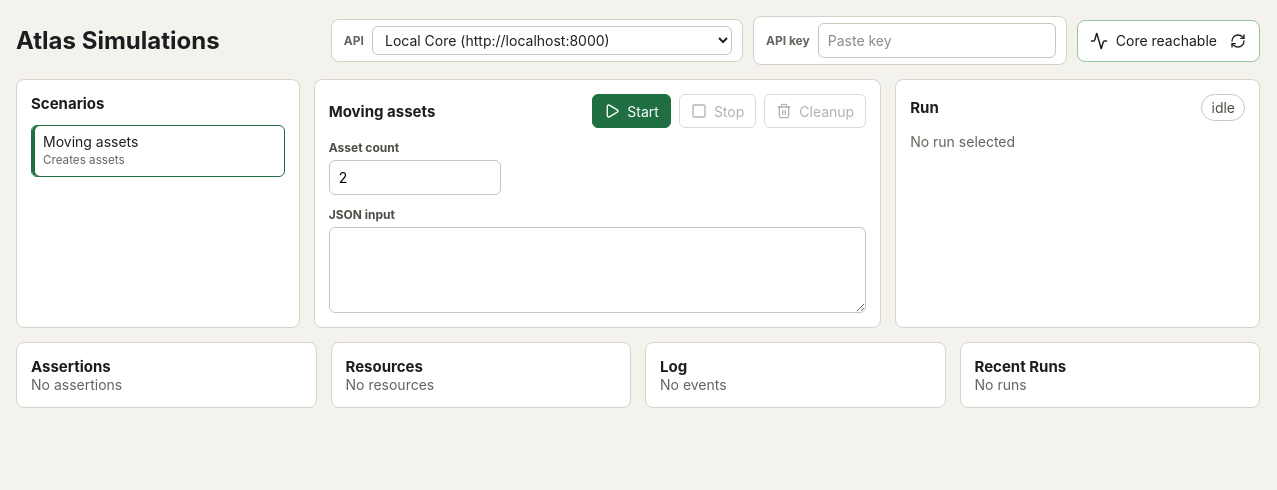
Test: App run lifecycle › refreshes the selected run when the event stream errors before a terminal event
Click the button "Start": click(632, 111) [592,94,671,128]
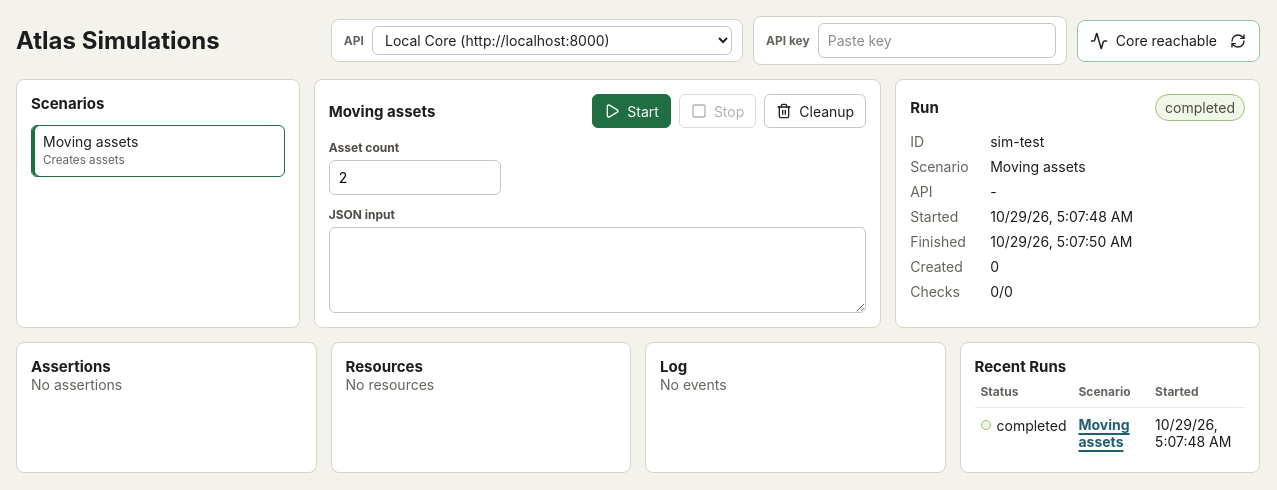
Expected: the text "completed" is shown, [1155,94,1245,121]
